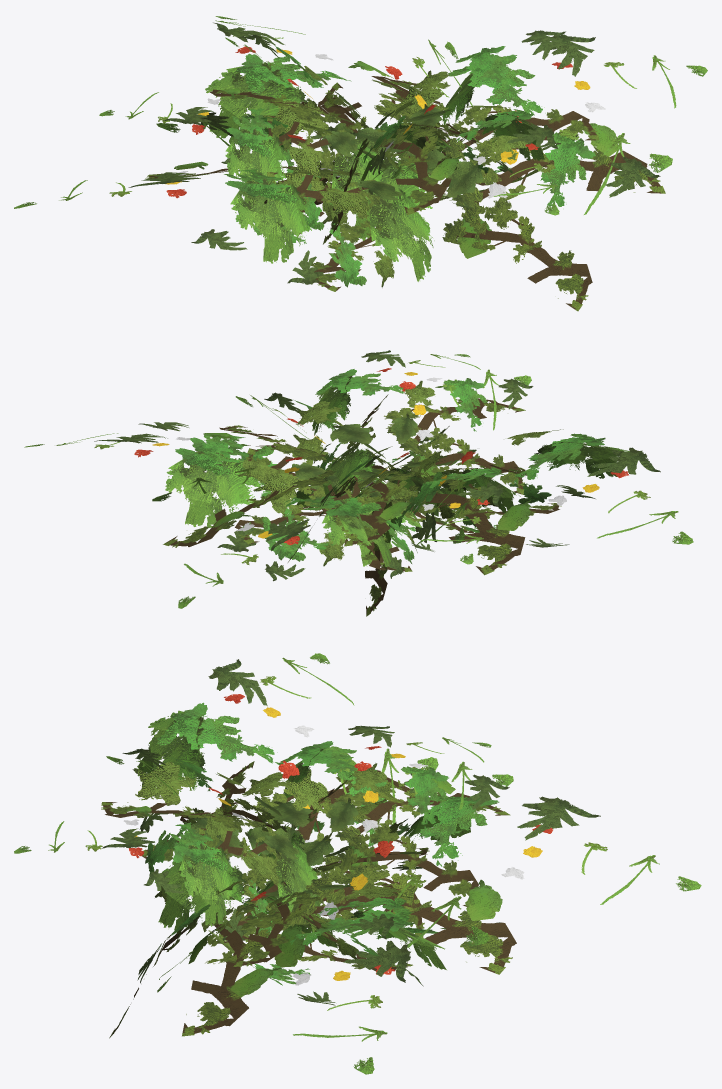
Rendered from Buisson_003.fbx.
3 views of the same model, one above another, from view 1: azimuth 30°, elevation 25°; view 2: azimuth 150°, elevation 25°; view 3: azimuth 270°, elevation 25° (orthographic). The views are drawn at different scales.
Parts seen in each view (by area): view 1: Buisson_003; view 2: Buisson_003; view 3: Buisson_003.
Boxes of the visible parts, x1=… form: Buisson_003: x1=14, y1=16, x2=707, y2=311; Buisson_003: x1=24, y1=350, x2=693, y2=616; Buisson_003: x1=14, y1=653, x2=701, y2=1074.
Bounding box in the file's own units: 6.1 × 1.61 × 4.83.
